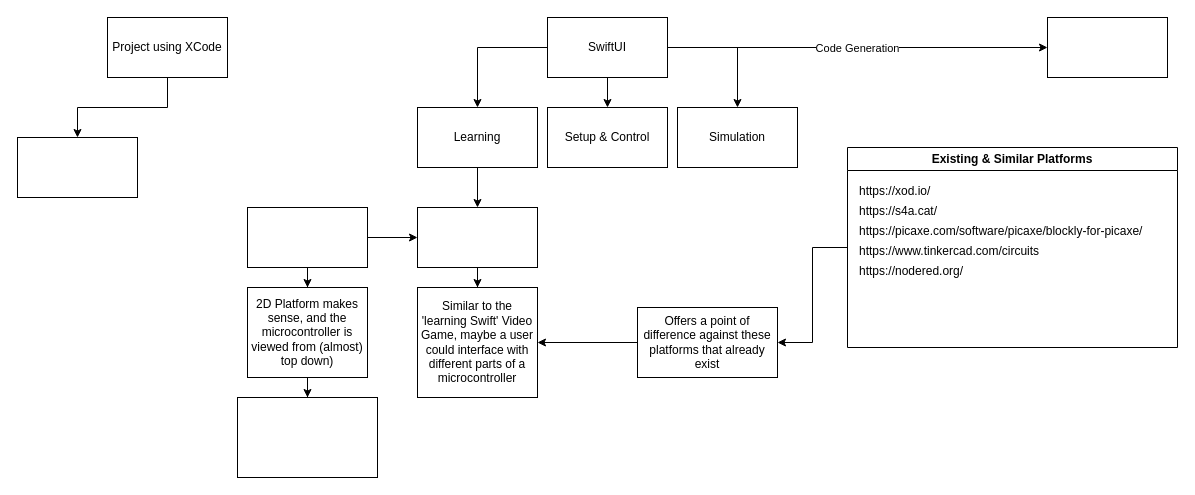
Image size: 1195x495. Some labels were removed from this diagram. The centre of each missing label's shape, as x and y in pixels:
3 different mini games (and make there 6 available on the GitHub full version): the point at 307,437
Embedded Swift: the point at 1107,47
SceneKit: the point at 307,237
SwiftUI Playground - Smaller Ported Package with limited features for the demo: the point at 77,167
Video-game style Learning: the point at 477,237
